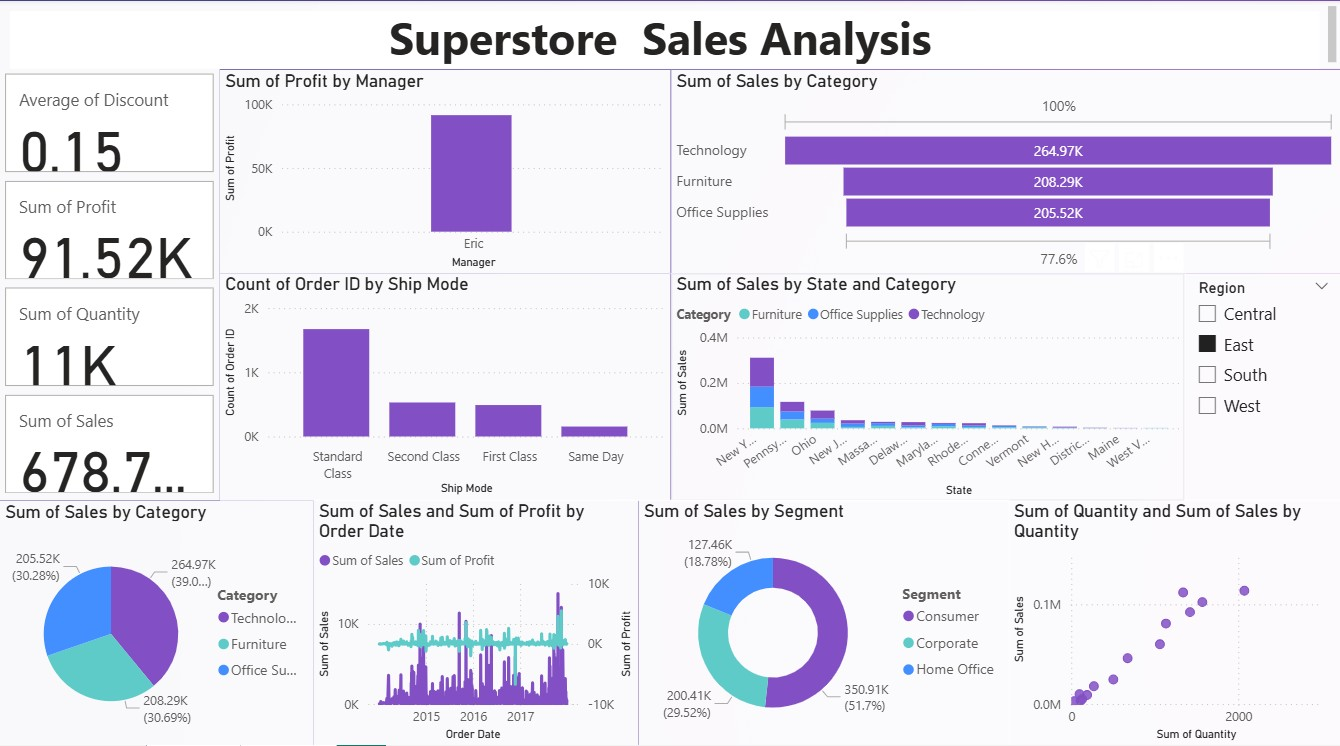

Layout of this report page (visuals, bound fields, positions):
{"tool":"powerbi","page":{"name":"Page 1","canvas":[1280,720],"ordinal":0},"visuals":[{"type":"pieChart","fields":{"Y":["FACT_Orders.Sales"],"Category":["DIM_Products.Category"]},"box":[0,485.8,299.1,234.6],"z":0},{"type":"lineChart","fields":{"Category":["FACT_Orders.Order Date.Variation.Date Hierarchy.Month"],"Y":["FACT_Orders.Sales"],"Y2":["FACT_Orders.Profit"]},"box":[299.6,485.5,309.4,234.8],"z":1000},{"type":"scatterChart","fields":{"X":["FACT_Orders.Quantity"],"Y":["FACT_Orders.Sales"],"Category":["FACT_Orders.Quantity","FACT_Orders.Sales"]},"box":[962.4,485.5,316.7,234.8],"z":2000},{"type":"cardVisual","fields":{"Data":["FACT_Orders.Discount","FACT_Orders.Profit","FACT_Orders.Quantity","FACT_Orders.Sales"]},"box":[0,74.1,209.9,411.7],"z":3000},{"type":"columnChart","fields":{"Category":["FACT_Orders.Ship Mode"],"Y":["FACT_Orders.Order ID"]},"box":[210.3,269,382.7,216.4],"z":4000},{"type":"slicer","fields":{"Values":["DIM_Manager.Region"]},"box":[924.5,269,354.6,216.4],"z":5000},{"type":"columnChart","fields":{"Category":["DIM_Geo.State"],"Y":["FACT_Orders.Sales"],"Series":["DIM_Products.Category"]},"box":[593.1,269,331.4,217.7],"z":6000},{"type":"qnaVisual","box":[1130,190.7,150,214.1],"z":7000},{"type":"donutChart","fields":{"Y":["FACT_Orders.Sales"],"Category":["DIM_Customer.Segment"]},"box":[609,485.5,353.4,234.8],"z":8000},{"type":"columnChart","fields":{"Y":["FACT_Orders.Profit"],"Category":["DIM_Manager.Manager"]},"box":[210.3,74.6,429.2,194.4],"z":9000},{"type":"funnel","fields":{"Y":["FACT_Orders.Sales"],"Category":["DIM_Products.Category"]},"box":[639.5,74.6,607.7,194.4],"z":10000},{"type":"textbox","box":[9.6,19.2,1248.7,54.9],"z":11000},{"type":"textbox","box":[0,9.8,1279.1,64.8],"z":12000}]}

Visuals, with their boxes in screenshot pixels (x1, y1, x2, y2), scaled from the page's 1280x720 canvas onto the 1340x746 screenshot:
pieChart - FACT_Orders.Sales x DIM_Products.Category: 0,503,313,745
lineChart - FACT_Orders.Order Date.Variation.Date Hierarchy.Month x FACT_Orders.Sales: 314,503,638,745
scatterChart - FACT_Orders.Quantity x FACT_Orders.Sales: 1008,503,1339,745
cardVisual - FACT_Orders.Discount x FACT_Orders.Profit: 0,77,220,503
columnChart - FACT_Orders.Ship Mode x FACT_Orders.Order ID: 220,279,621,503
slicer - DIM_Manager.Region: 968,279,1339,503
columnChart - DIM_Geo.State x FACT_Orders.Sales: 621,279,968,504
qnaVisual: 1183,198,1339,419
donutChart - FACT_Orders.Sales x DIM_Customer.Segment: 638,503,1008,745
columnChart - FACT_Orders.Profit x DIM_Manager.Manager: 220,77,669,279
funnel - FACT_Orders.Sales x DIM_Products.Category: 669,77,1306,279
textbox: 10,20,1317,77
textbox: 0,10,1339,77
